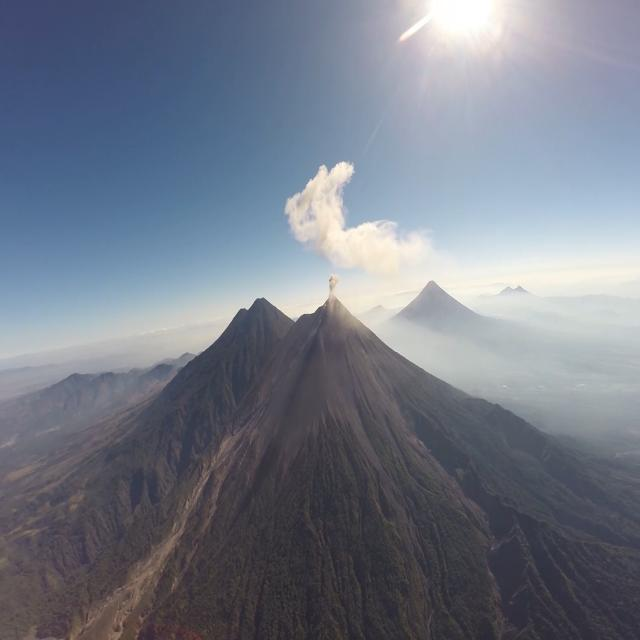Plume: (285, 158, 433, 279), (328, 271, 339, 297)
Summit: (314, 293, 350, 315)
